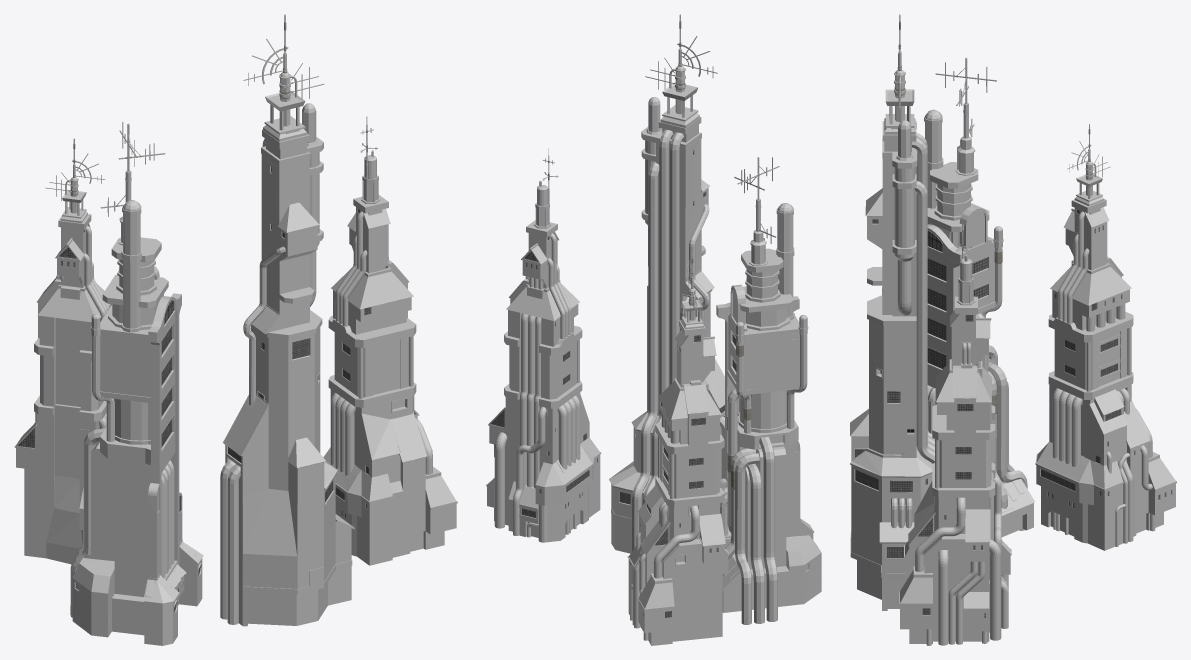
File: CommonBuilding_Aa_Distant.fbx
The picture shows the model from 3 angles, left to right: view 1: azimuth 30°, elevation 25°; view 2: azimuth 150°, elevation 25°; view 3: azimuth 270°, elevation 25°; orthographic projection. The views are drawn at different scales.
Parts seen in each view (by area): view 1: SM_ENV_AMVLLG02_CommonBuilding_Aa_Distant.mo; view 2: SM_ENV_AMVLLG02_CommonBuilding_Aa_Distant.mo; view 3: SM_ENV_AMVLLG02_CommonBuilding_Aa_Distant.mo.
Part boxes in pixels (box(x1,y1,x2,y2)): SM_ENV_AMVLLG02_CommonBuilding_Aa_Distant.mo: box(14, 14, 457, 645); SM_ENV_AMVLLG02_CommonBuilding_Aa_Distant.mo: box(486, 14, 821, 645); SM_ENV_AMVLLG02_CommonBuilding_Aa_Distant.mo: box(850, 14, 1176, 645).
Size of the model in its own units: 7423 by 12270 by 6277.
